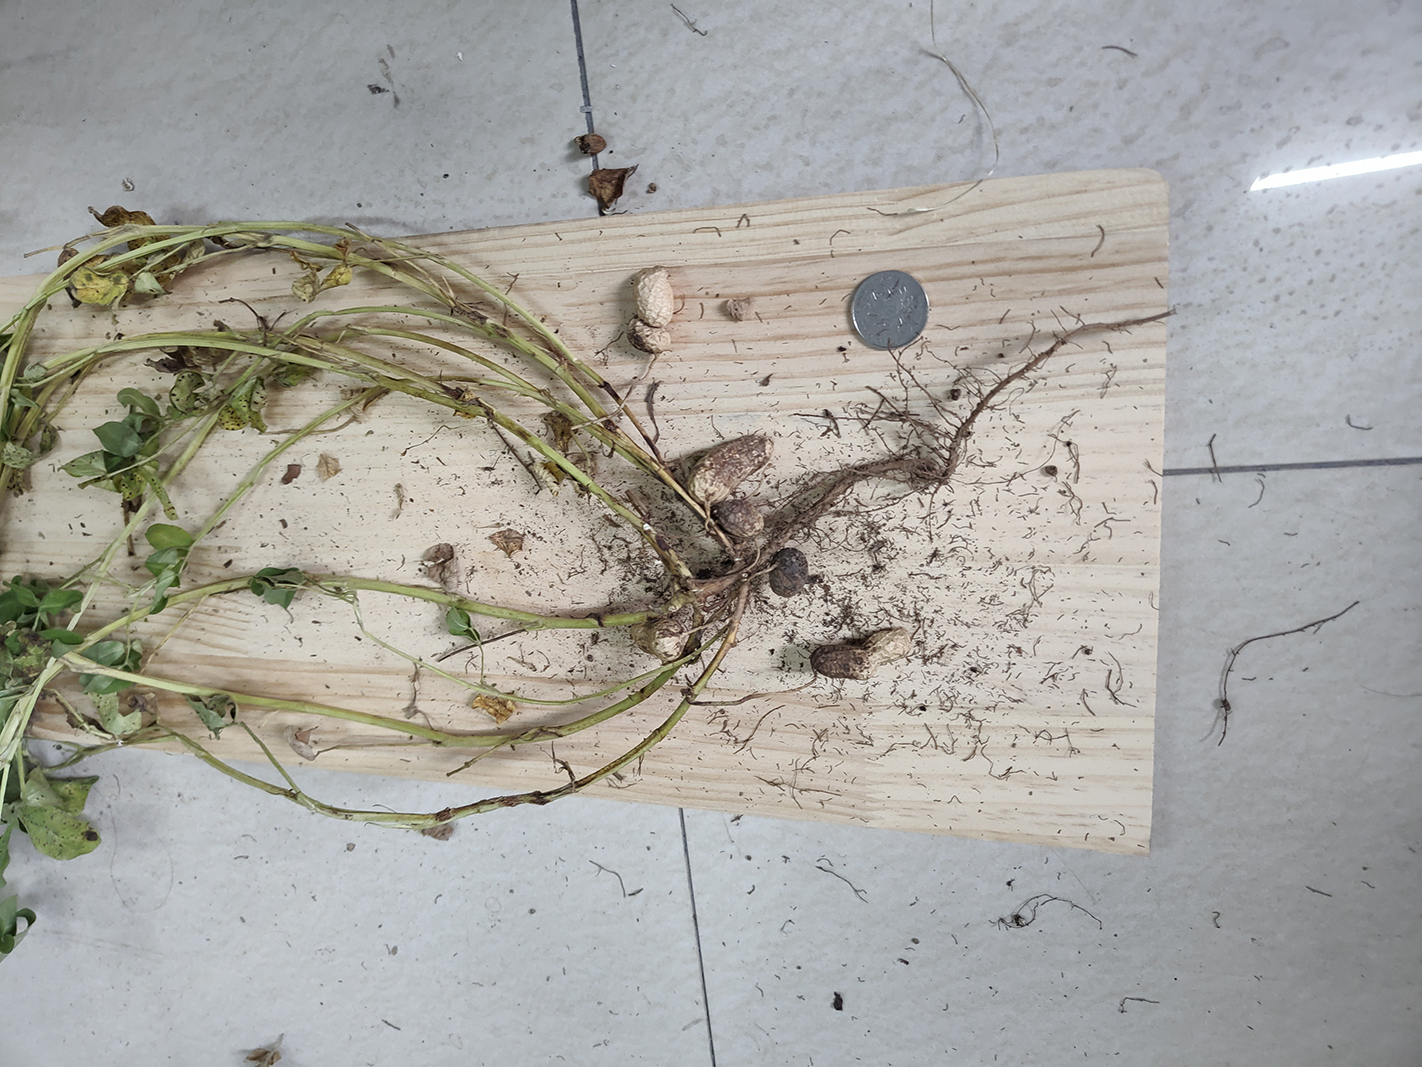h: (628, 265, 673, 354), (634, 620, 690, 662)
l: (687, 435, 772, 503), (811, 631, 904, 679), (769, 550, 809, 597), (716, 501, 765, 539)
